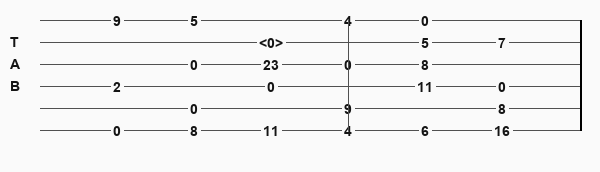0: (113, 123, 125, 137), (190, 57, 202, 71), (190, 101, 202, 115), (267, 79, 279, 93), (344, 57, 356, 71), (421, 13, 433, 27), (498, 79, 510, 93)
11: (263, 123, 283, 137), (417, 79, 437, 93)
16: (494, 123, 514, 137)
2: (113, 79, 125, 93)
23: (263, 57, 283, 71)
4: (344, 123, 356, 137), (344, 13, 356, 27)
5: (190, 13, 202, 27), (421, 35, 433, 49)
6: (421, 123, 433, 137)
7: (498, 35, 510, 49)
8: (190, 123, 202, 137), (421, 57, 433, 71), (498, 101, 510, 115)
9: (113, 13, 125, 27), (344, 101, 356, 115)
harmonic: (259, 35, 287, 49)
